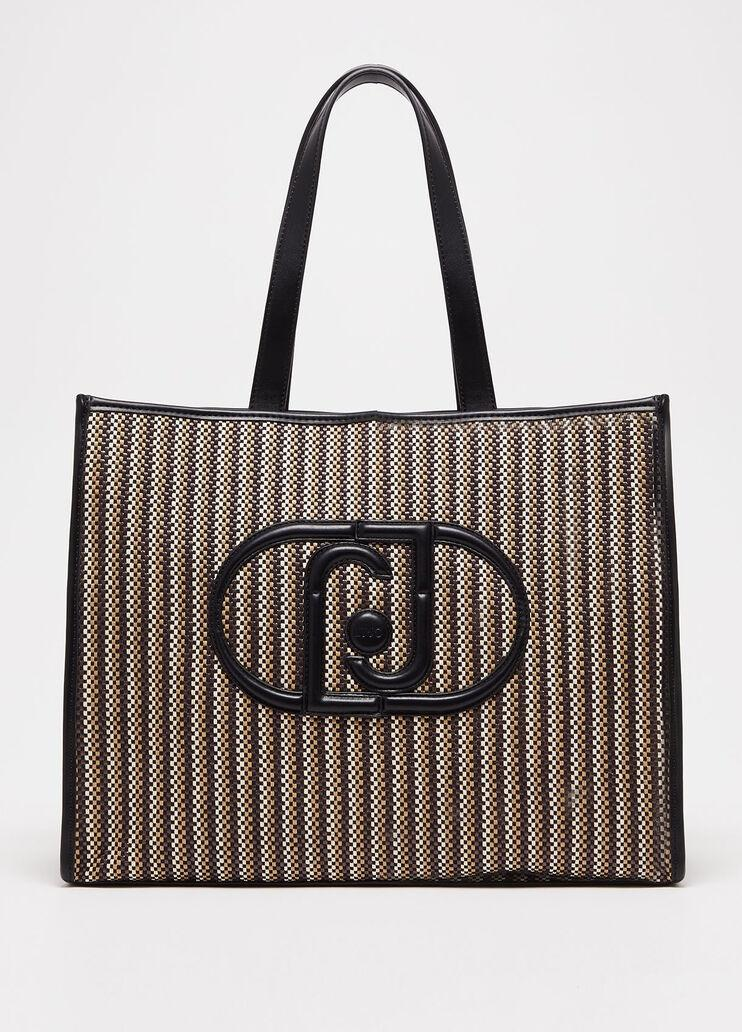LIU-JO: (305, 520, 435, 715)
